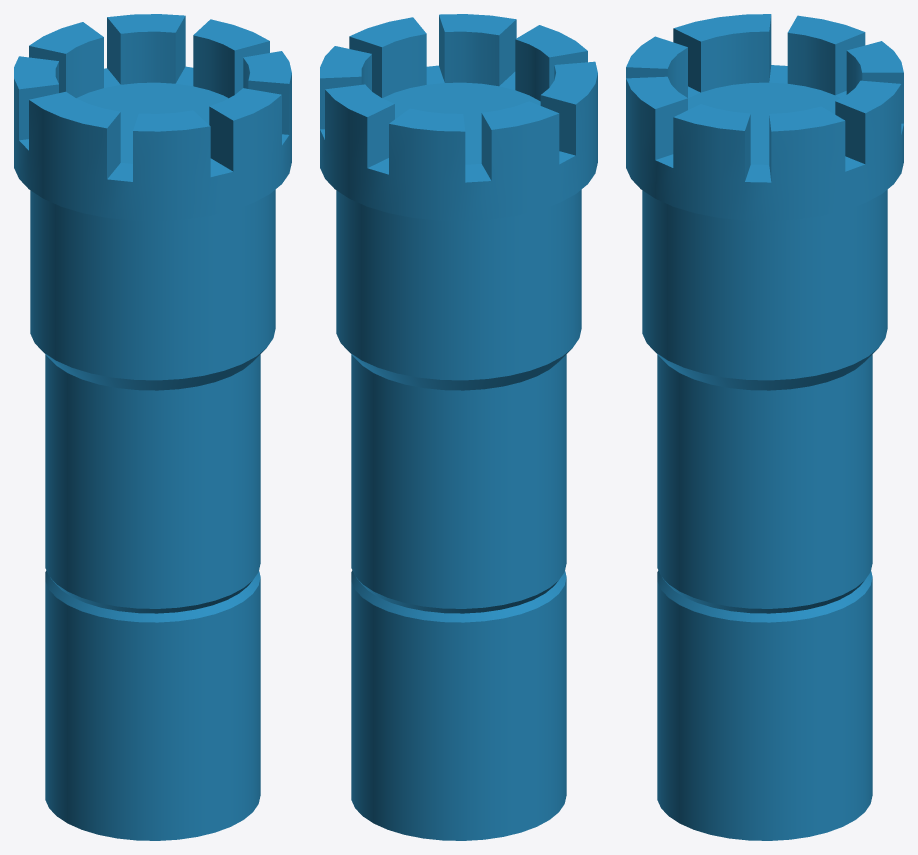
The model's file is Tower2_blue.fbx.
The picture shows the model from 3 angles, left to right: view 1: azimuth 30°, elevation 25°; view 2: azimuth 150°, elevation 25°; view 3: azimuth 270°, elevation 25°; orthographic projection.
Parts seen in each view (by area): view 1: Cylinder.021; view 2: Cylinder.021; view 3: Cylinder.021.
Boxes of the visible parts, x1,y1,x2,y2 form: Cylinder.021: (14, 14, 291, 840); Cylinder.021: (320, 14, 597, 840); Cylinder.021: (626, 14, 903, 840).
Size of the model in its own units: 2.58 by 2.57 by 7.39.
